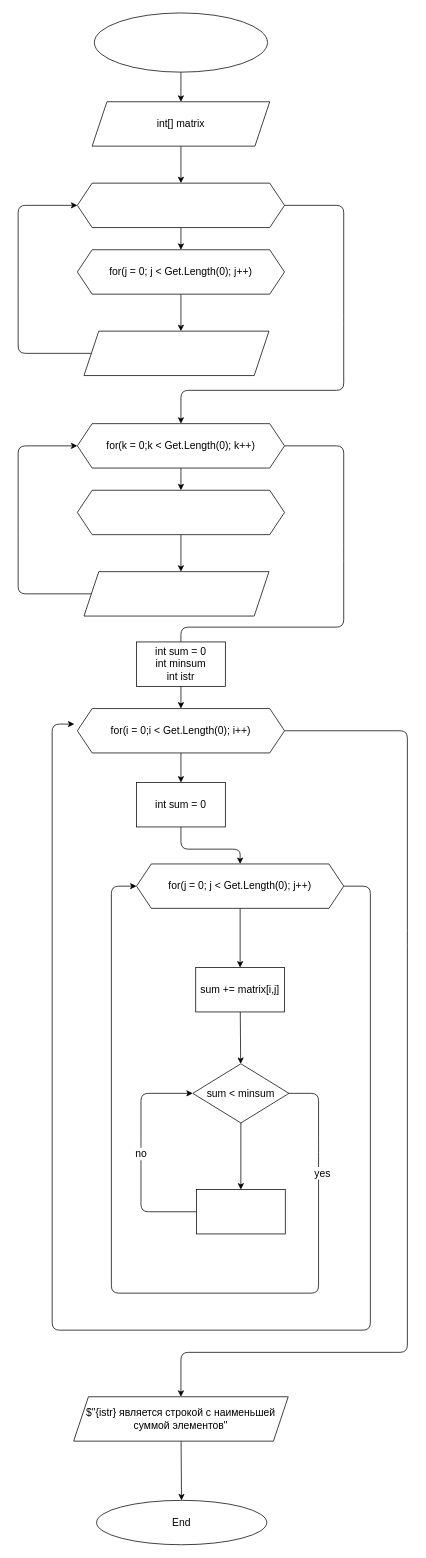
Image size: 426x1558. Some labels were removed from this diagram. Here are the shapes that lost their labels. From the top down, the centre of each, then its label:
At [181,42]: "Start".
At [181,205]: "for(i = 0; i < Get.Length(0); i++)".
At [176,353]: "matrix [i,j] = new Randome".
At [181,512]: "for(l = 0; l < Get.Length(0); l++)".
At [176,593]: "Console.WriteLine(matrix)".
At [240,1211]: "minsum = sum istr++".
